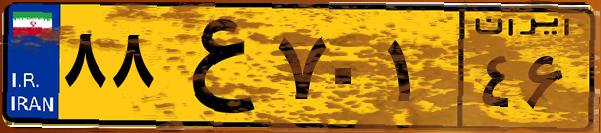0: (330, 28, 385, 110)
1: (385, 28, 445, 110)
4: (475, 38, 525, 113)
6: (525, 38, 570, 115)
7: (270, 28, 330, 110)
8: (57, 26, 110, 100), (110, 28, 158, 98)
ع: (158, 12, 270, 120)
